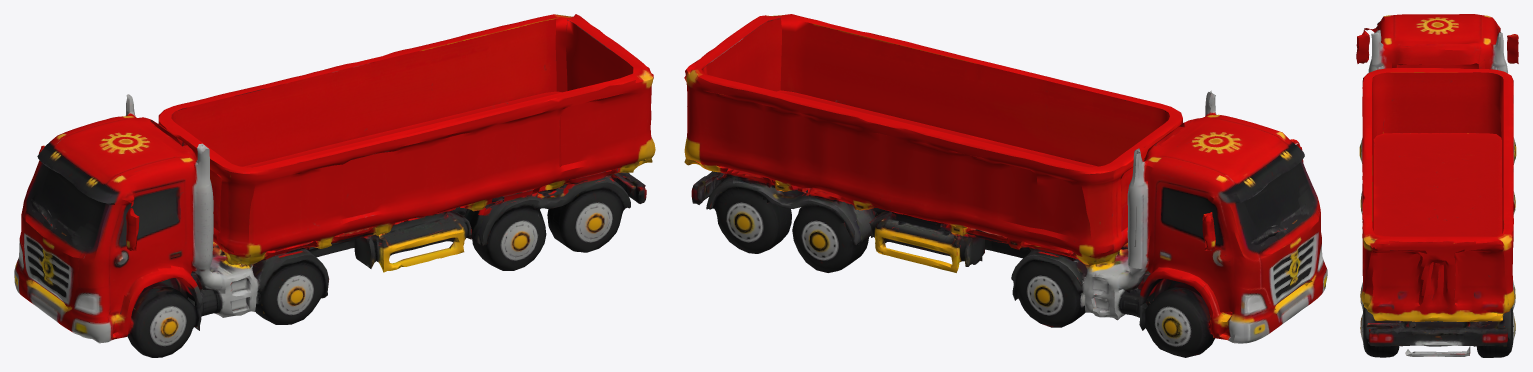
File: Meshy_AI_Scarlet_Sun_Hauler_0520001833_texture.fbx
The picture shows the model from 3 angles, left to right: view 1: azimuth 30°, elevation 25°; view 2: azimuth 150°, elevation 25°; view 3: azimuth 270°, elevation 25°; orthographic projection. The views are drawn at different scales.
Parts seen in each view (by area): view 1: Mesh0; view 2: Mesh0; view 3: Mesh0.
Part boxes in pixels (x1,y1,x2,y2): Mesh0: (14, 14, 655, 357); Mesh0: (684, 14, 1327, 357); Mesh0: (1356, 14, 1518, 357).
Size of the model in its own units: 3 by 0.9984 by 0.8789.
1 material, 1 textured.
